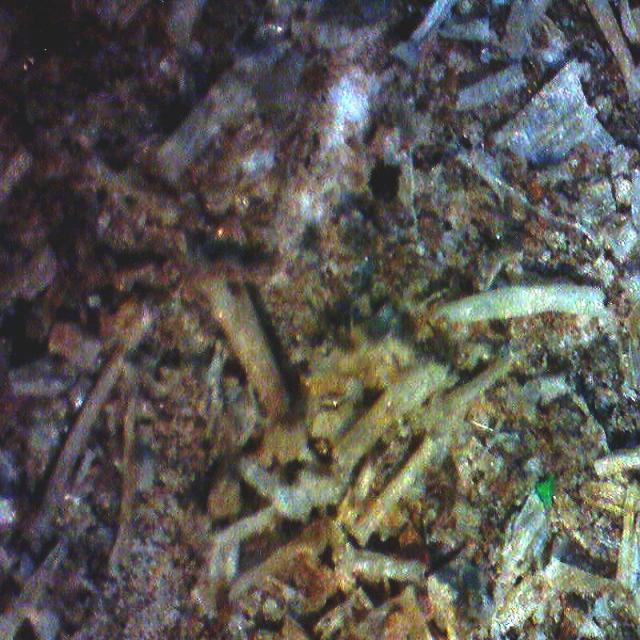microplastic: (535, 473, 555, 510)
